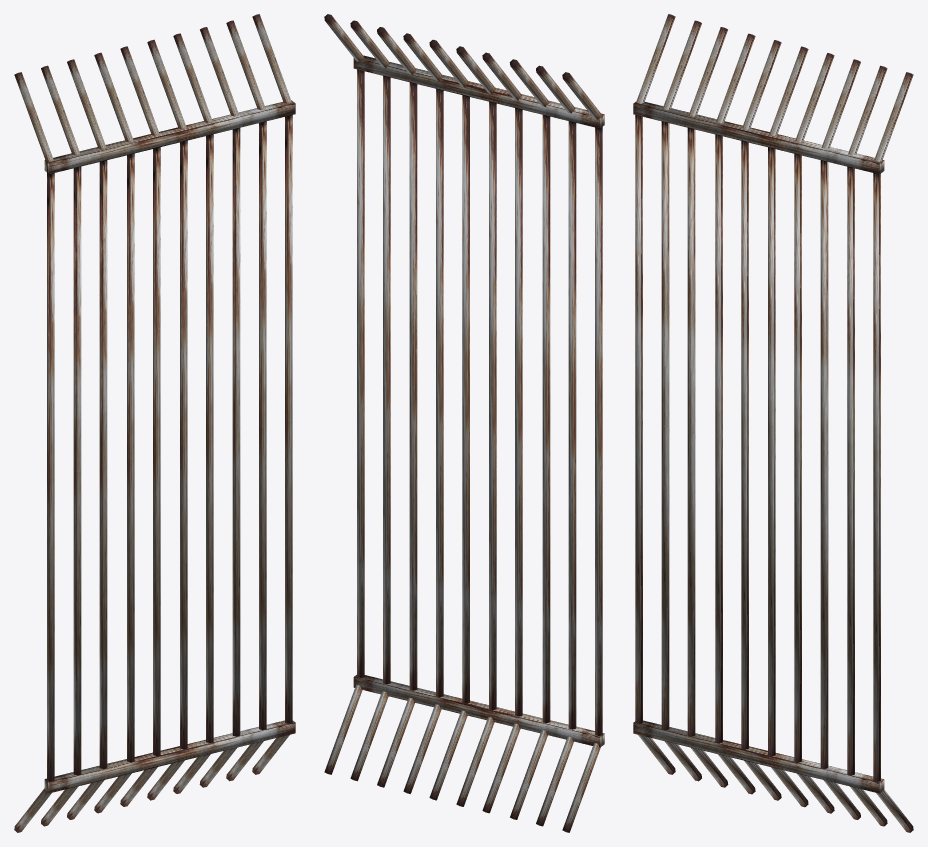
The model's file is windowbars_small.fbx.
3 renders of one model, left to right at view 1: azimuth 30°, elevation 25°; view 2: azimuth 150°, elevation 25°; view 3: azimuth 330°, elevation 25°, orthographic.
Parts seen in each view (by area): view 1: windowbarssmall0; view 2: windowbarssmall0; view 3: windowbarssmall0.
Part boxes in pixels (bbox=[...]): windowbarssmall0: bbox=[14, 14, 295, 832]; windowbarssmall0: bbox=[324, 14, 604, 832]; windowbarssmall0: bbox=[633, 14, 913, 832].
Size of the model in its own units: 0.9736 by 2.87 by 0.2488.
